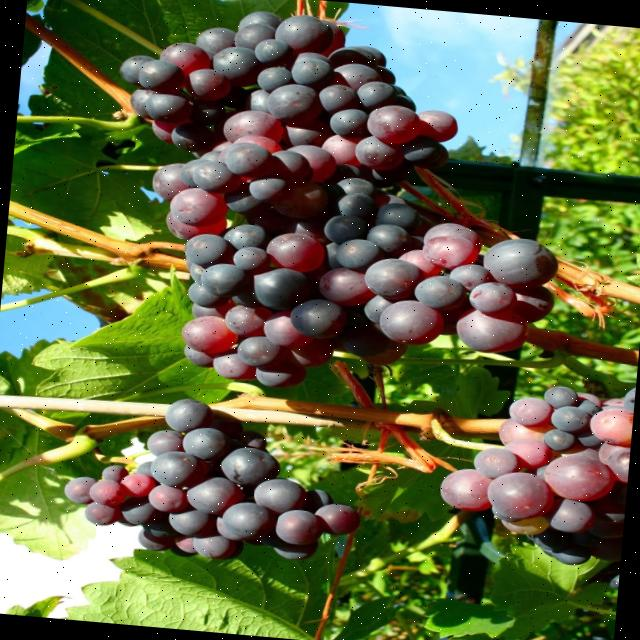grape: (119, 11, 562, 387), (63, 399, 358, 559), (439, 386, 632, 564)
